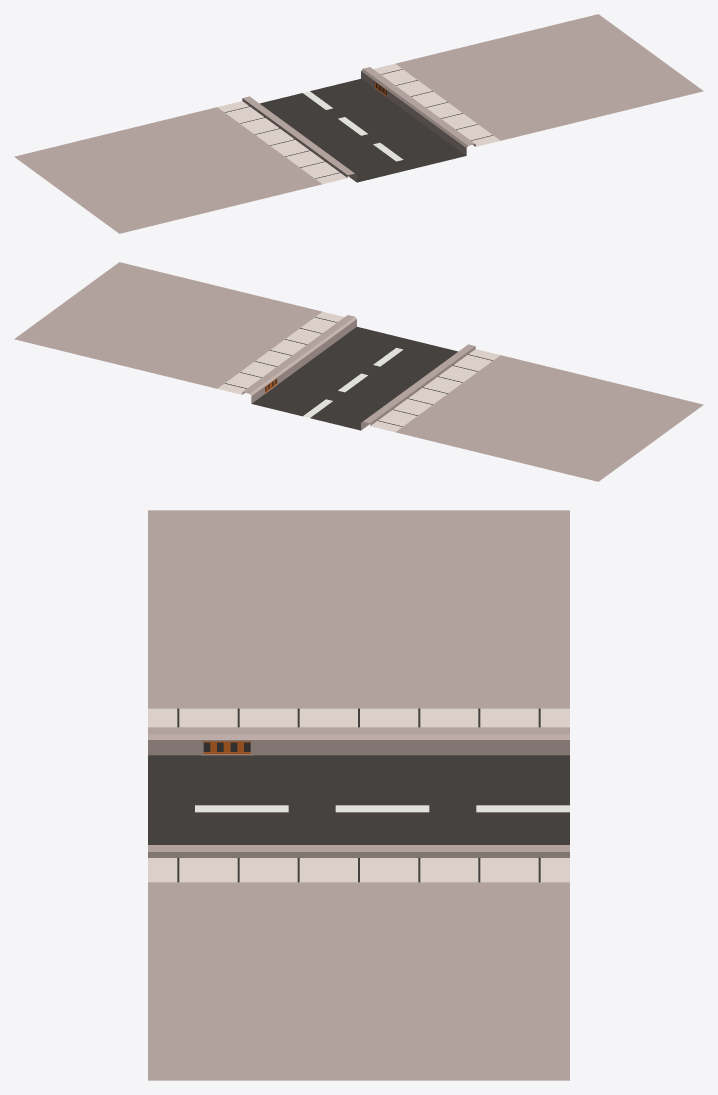
The model's file is Road.fbx.
3 renders of one model, top to bottom at view 1: azimuth 30°, elevation 25°; view 2: azimuth 150°, elevation 25°; view 3: azimuth 270°, elevation 25°, orthographic. The views are drawn at different scales.
Parts seen in each view (by area): view 1: Road; view 2: Road; view 3: Road.
Part boxes in pixels (box(x1,y1,x2,y2)): Road: box(14, 14, 703, 233); Road: box(14, 262, 703, 481); Road: box(148, 510, 569, 1080).
Bounding box in the file's own units: 6400 × 100 × 2000.
